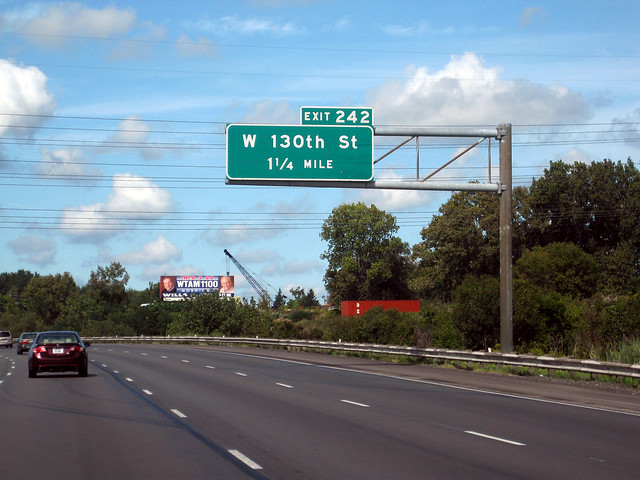car: (28, 331, 90, 378), (18, 332, 37, 354), (1, 331, 13, 348)
